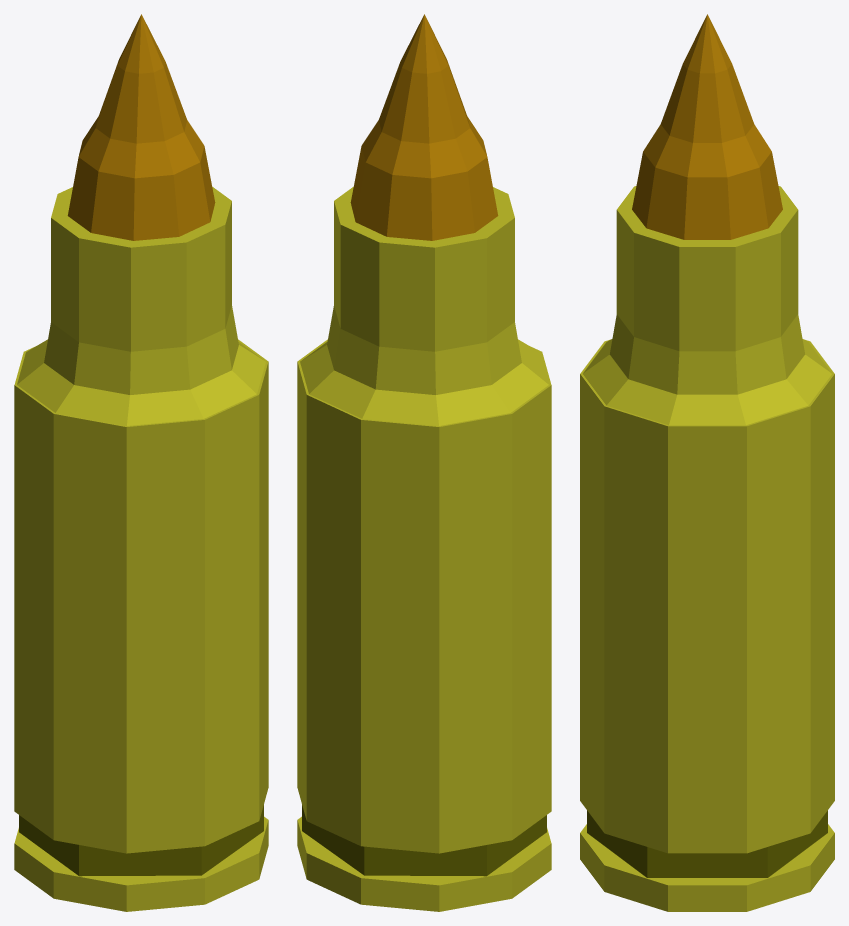
Rendered from MGyakkyou.fbx.
3 renders of one model, left to right at view 1: azimuth 30°, elevation 25°; view 2: azimuth 150°, elevation 25°; view 3: azimuth 270°, elevation 25°, orthographic.
Parts seen in each view (by area): view 1: MGyakkyou, MGkarayakkyou; view 2: MGyakkyou, MGkarayakkyou; view 3: MGyakkyou, MGkarayakkyou.
Part boxes in pixels (x1,y1,x2,y2): MGyakkyou: (14,14,268,911); MGkarayakkyou: (44,203,238,394); MGyakkyou: (297,14,551,911); MGkarayakkyou: (327,203,521,394); MGyakkyou: (580,14,834,911); MGkarayakkyou: (609,210,805,394).
Bounding box in the file's own units: 16.19 × 60.81 × 16.6.
